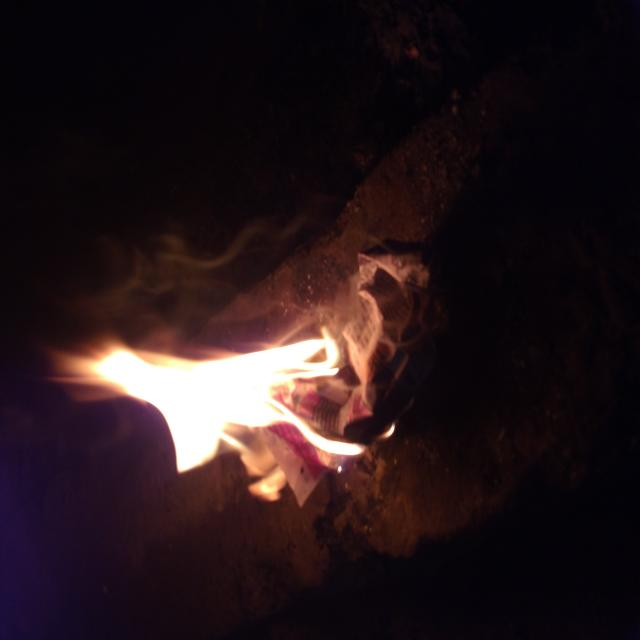Fire: (104, 98, 232, 486)
